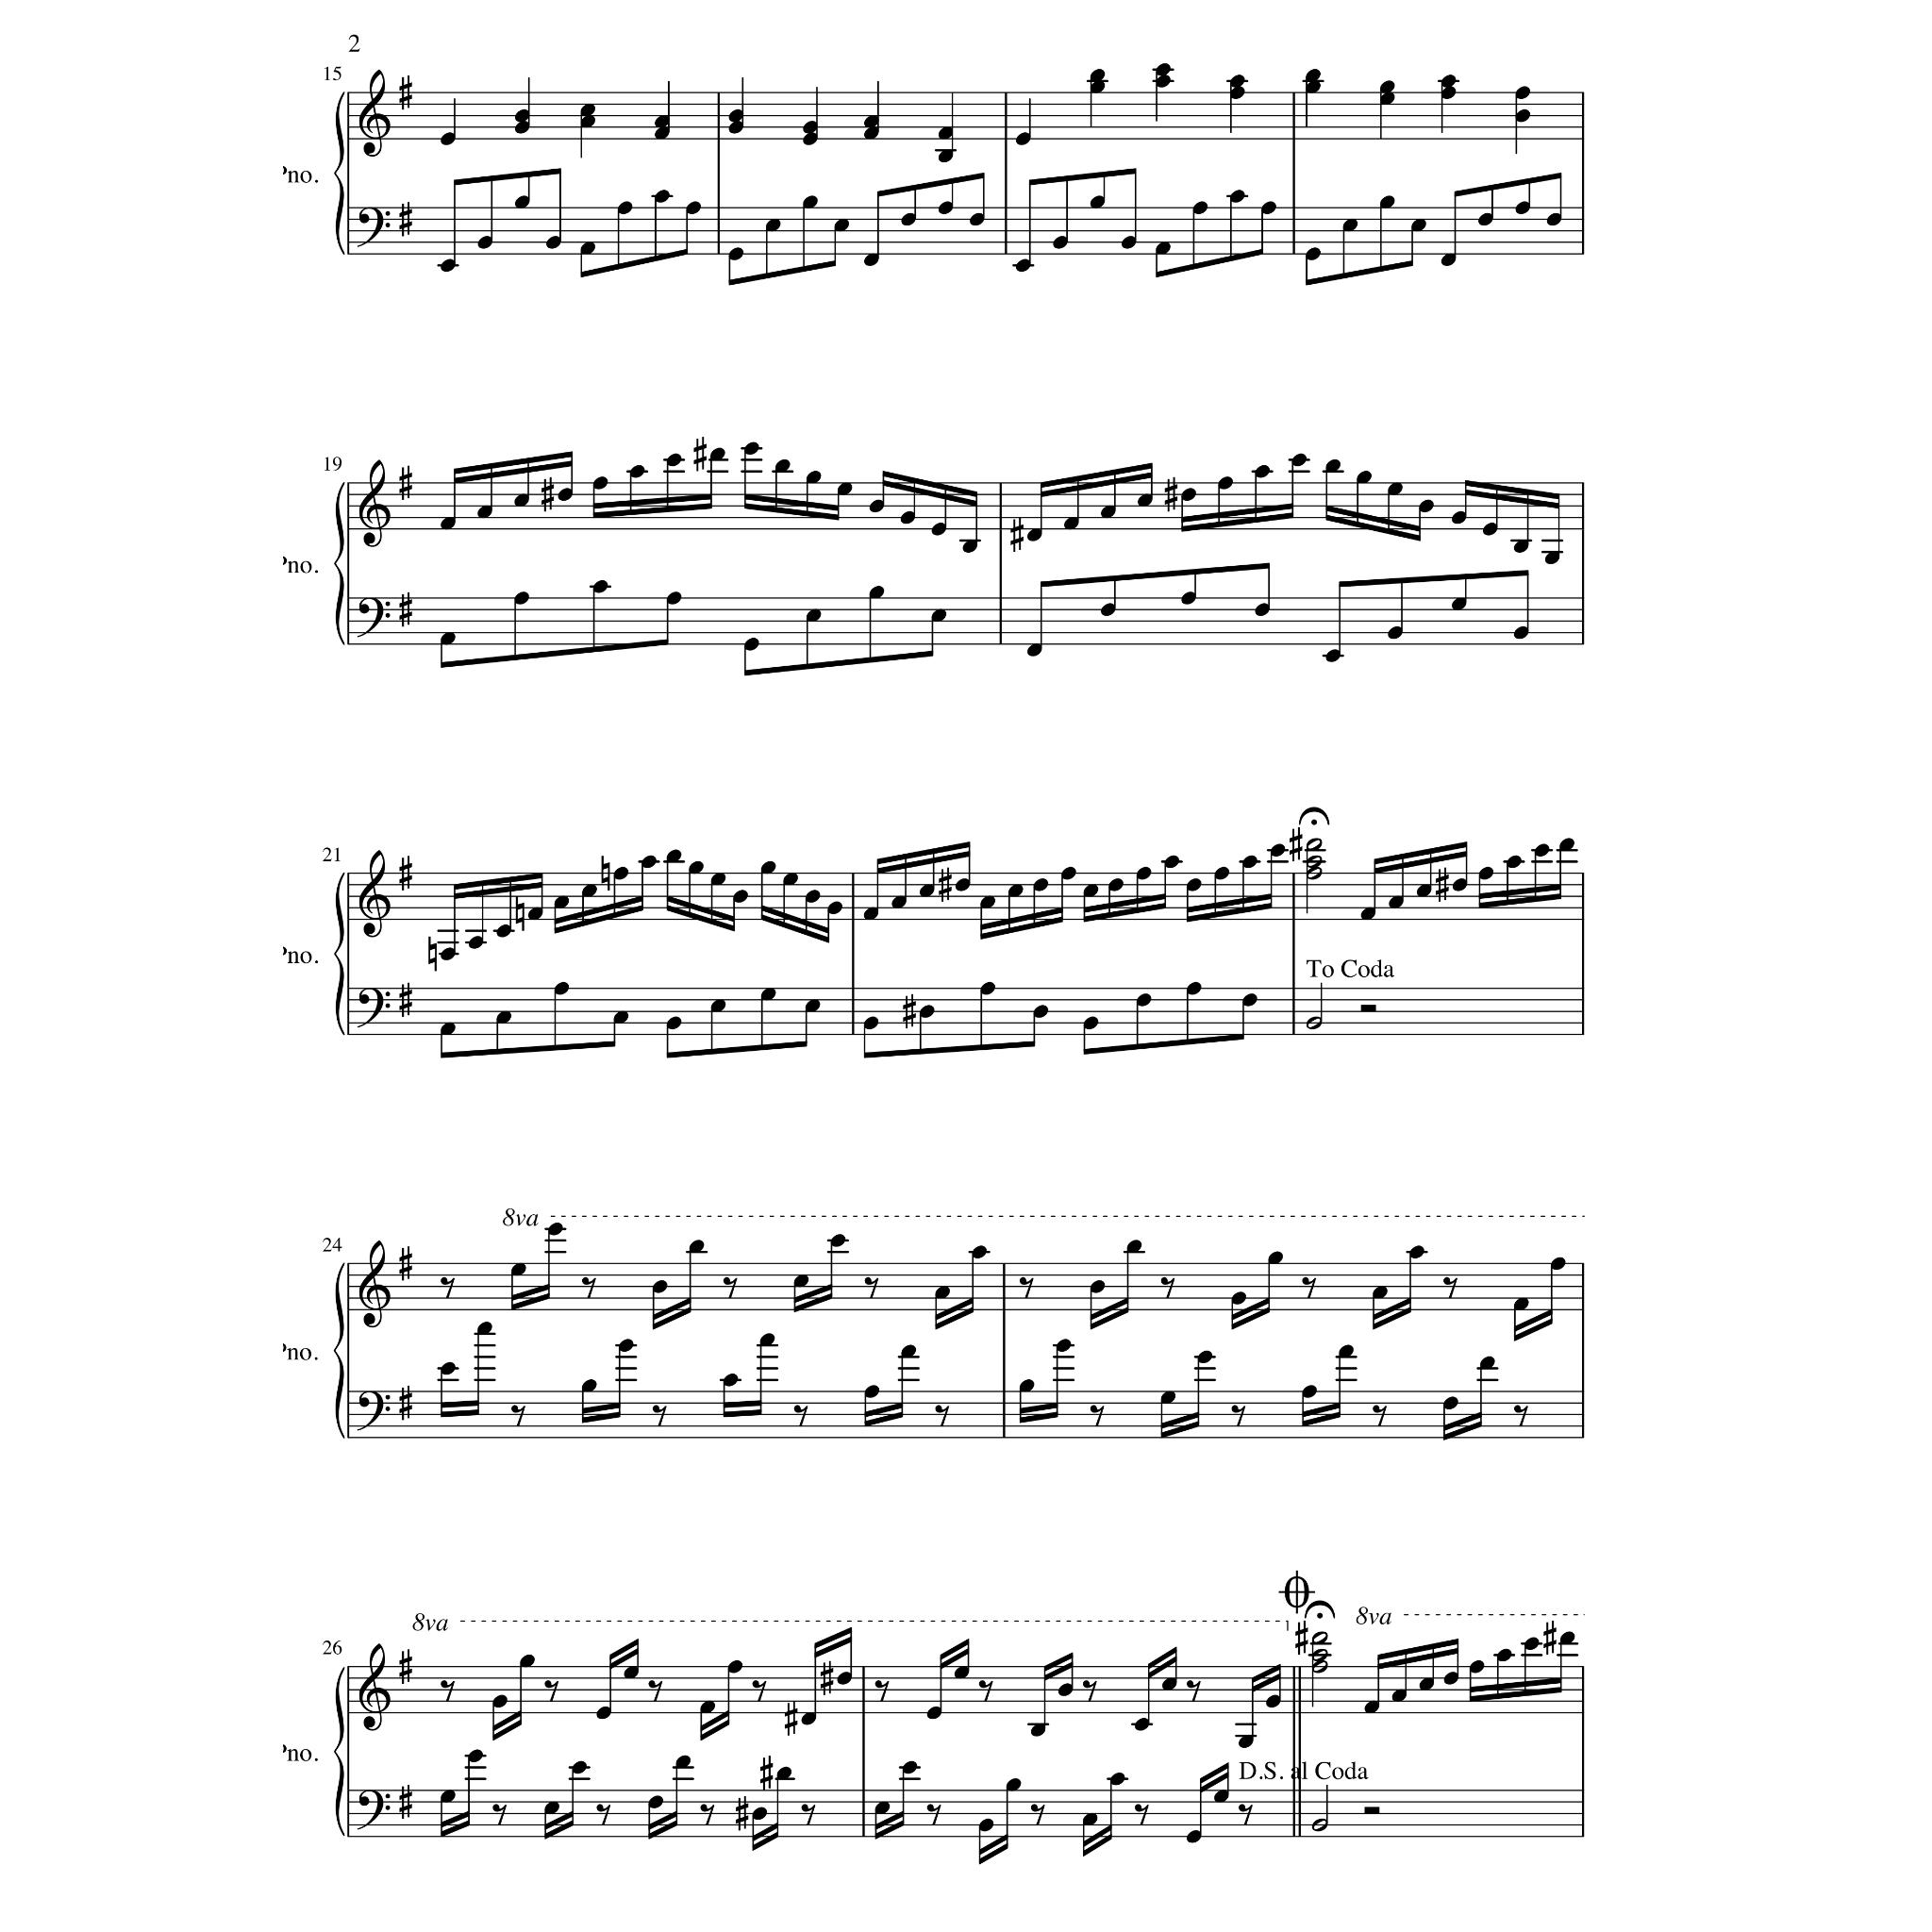brace: (333, 1263, 345, 1438), (333, 1667, 345, 1836), (333, 481, 345, 646), (333, 92, 345, 255), (333, 872, 345, 1035)
fClef: (357, 207, 391, 248), (357, 598, 391, 639), (357, 987, 391, 1028), (357, 1391, 391, 1431), (357, 1790, 391, 1831)
gClef: (359, 849, 391, 939), (359, 69, 391, 157), (359, 460, 391, 548), (359, 1240, 391, 1329), (359, 1644, 391, 1732)
noteheadBlack: (1228, 74, 1246, 88), (1228, 87, 1246, 101), (1014, 133, 1031, 147), (616, 202, 633, 216), (801, 120, 819, 134), (801, 133, 819, 147), (1099, 603, 1116, 617), (759, 987, 777, 1001), (1056, 1683, 1074, 1697), (901, 1760, 918, 1775), (1192, 202, 1208, 216), (1155, 241, 1171, 255), (1306, 248, 1322, 262), (1260, 202, 1276, 216), (1053, 235, 1069, 249), (1120, 235, 1136, 249), (1155, 74, 1171, 88), (1514, 87, 1530, 101), (1514, 202, 1530, 216), (1440, 253, 1456, 267), (1440, 74, 1456, 88), (1440, 87, 1456, 101), (580, 115, 596, 129), (580, 241, 596, 255), (545, 235, 561, 249), (727, 248, 743, 262), (727, 120, 743, 134), (653, 115, 669, 129), (653, 126, 669, 140), (478, 235, 494, 249), (513, 120, 529, 134), (441, 133, 456, 147), (863, 253, 879, 267), (863, 115, 879, 129), (863, 126, 879, 140), (938, 202, 954, 216), (938, 126, 954, 140), (1217, 476, 1233, 490), (1180, 488, 1196, 502), (1325, 649, 1341, 663), (1292, 453, 1307, 467), (1254, 603, 1270, 617), (1136, 494, 1152, 508), (1063, 517, 1079, 531), (1513, 626, 1529, 640), (1387, 626, 1403, 640), (1387, 481, 1403, 495), (1481, 522, 1497, 536), (593, 476, 609, 490), (557, 488, 573, 502), (709, 448, 725, 462), (665, 453, 681, 467), (513, 494, 529, 508), (441, 632, 456, 646), (441, 517, 456, 531), (869, 586, 885, 600), (837, 481, 853, 495), (931, 609, 947, 623), (931, 522, 947, 536), (743, 442, 759, 456), (743, 637, 759, 651), (805, 471, 821, 485), (805, 609, 821, 623), (1185, 878, 1201, 892), (1108, 878, 1123, 892), (1136, 993, 1152, 1007), (1242, 993, 1258, 1007), (1185, 982, 1201, 996), (980, 982, 996, 996), (954, 878, 970, 892), (1083, 1016, 1099, 1030), (1033, 1005, 1049, 1019), (1033, 878, 1049, 892), (1534, 844, 1550, 858), (1451, 878, 1467, 892), (1269, 844, 1284, 858), (554, 982, 570, 996), (665, 1016, 681, 1030), (665, 849, 681, 863), (441, 947, 456, 961), (863, 1016, 879, 1030), (918, 1005, 934, 1019), (709, 872, 725, 886), (782, 872, 798, 886), (1267, 1251, 1283, 1265), (1090, 1279, 1106, 1293), (1338, 1345, 1353, 1359), (1513, 1297, 1529, 1311), (1444, 1396, 1460, 1410), (547, 1223, 563, 1237), (651, 1279, 667, 1293), (901, 1345, 916, 1359), (830, 1233, 846, 1247), (793, 1274, 809, 1288), (759, 1332, 775, 1346), (722, 1373, 738, 1387), (1185, 1829, 1201, 1844), (1134, 1718, 1150, 1732), (1162, 1677, 1178, 1691), (1214, 1789, 1230, 1803), (1030, 1723, 1046, 1737), (1005, 1778, 1021, 1792), (1495, 1649, 1511, 1663), (1468, 1660, 1484, 1674), (1419, 1677, 1435, 1691), (1391, 1688, 1407, 1702), (571, 1760, 587, 1775), (676, 1753, 692, 1767), (648, 1794, 663, 1808), (441, 1789, 456, 1803), (520, 1654, 536, 1668), (492, 1695, 508, 1709), (727, 1660, 743, 1674), (752, 1806, 768, 1821), (1014, 260, 1031, 272), (1228, 191, 1246, 203), (1341, 219, 1359, 232), (801, 196, 819, 209), (1099, 506, 1116, 518), (773, 460, 791, 472), (759, 862, 777, 874), (1380, 92, 1394, 106), (686, 202, 701, 216), (1357, 471, 1371, 485), (1267, 1695, 1281, 1709), (1306, 69, 1322, 81), (1306, 81, 1322, 94), (1155, 64, 1171, 76), (1090, 196, 1106, 209), (1090, 69, 1106, 81), (1090, 81, 1106, 94), (1546, 214, 1562, 226), (1514, 110, 1530, 122), (1477, 214, 1493, 226), (1410, 219, 1426, 232), (580, 104, 596, 117), (727, 110, 743, 122), (653, 191, 669, 203), (513, 196, 529, 209), (513, 110, 529, 122), (441, 260, 456, 272), (833, 219, 849, 232), (968, 214, 984, 226), (938, 150, 954, 163), (901, 214, 916, 226), (764, 219, 780, 232), (1180, 593, 1196, 605), (1026, 529, 1042, 541), (1325, 460, 1341, 472), (1254, 465, 1270, 478), (1026, 644, 1042, 656), (1545, 552, 1560, 564), (1513, 540, 1529, 552), (1451, 598, 1467, 610), (1451, 511, 1467, 524), (1419, 501, 1435, 513), (593, 580, 609, 593), (665, 593, 681, 605), (628, 465, 644, 478), (513, 593, 529, 605), (478, 506, 494, 518), (869, 501, 885, 513), (899, 511, 915, 524), (962, 540, 978, 552), (1164, 856, 1180, 869), (1136, 867, 1152, 879), (1242, 856, 1258, 869), (1214, 867, 1230, 879), (1007, 885, 1023, 897), (980, 897, 996, 909), (1083, 885, 1099, 897), (1062, 867, 1077, 879), (1506, 856, 1522, 869), (1559, 839, 1575, 851), (1477, 867, 1493, 879), (1415, 885, 1431, 897), (1389, 897, 1405, 909), (612, 1012, 628, 1024), (612, 867, 628, 879), (582, 885, 598, 897), (554, 897, 570, 909), (688, 862, 704, 874), (640, 856, 656, 869), (441, 1023, 456, 1035), (527, 908, 543, 920), (495, 1012, 511, 1024), (495, 925, 511, 938), (467, 936, 483, 948), (863, 908, 879, 920), (826, 902, 842, 915), (918, 885, 934, 897), (892, 897, 908, 909), (732, 890, 748, 902), (805, 890, 821, 902), (709, 1000, 725, 1012), (805, 1000, 821, 1012), (1231, 1292, 1247, 1304), (1196, 1352, 1212, 1364), (1161, 1391, 1177, 1403), (1302, 1385, 1318, 1398), (1125, 1240, 1141, 1253), (1054, 1339, 1070, 1352), (1550, 1258, 1566, 1270), (1408, 1246, 1424, 1258), (1373, 1286, 1389, 1299), (1479, 1357, 1495, 1369), (580, 1380, 596, 1392), (617, 1339, 633, 1352), (688, 1240, 704, 1253), (478, 1322, 494, 1334), (510, 1263, 525, 1276), (441, 1362, 456, 1375), (863, 1385, 879, 1398), (1019, 1380, 1035, 1392), (971, 1246, 987, 1258), (934, 1286, 950, 1299), (1237, 1736, 1253, 1748), (978, 1819, 994, 1831), (954, 1667, 970, 1679), (1081, 1813, 1097, 1826), (1109, 1773, 1125, 1785), (1559, 1631, 1575, 1644), (1523, 1638, 1539, 1651), (1364, 1700, 1380, 1713), (1444, 1672, 1460, 1684), (596, 1707, 612, 1720), (543, 1801, 559, 1813), (699, 1700, 715, 1713), (623, 1667, 639, 1679), (467, 1750, 483, 1762), (874, 1801, 890, 1813), (837, 1672, 853, 1684), (925, 1707, 941, 1720), (777, 1767, 793, 1780), (800, 1713, 816, 1725), (1380, 81, 1394, 94), (1380, 196, 1394, 209), (1361, 908, 1375, 920)
noteheadHalf: (1306, 1016, 1323, 1030), (1311, 1660, 1329, 1674), (1311, 1649, 1329, 1663), (1306, 839, 1323, 851), (1306, 856, 1323, 869), (1306, 867, 1323, 879), (1311, 1819, 1329, 1831), (1311, 1631, 1329, 1644)
rest8th: (1371, 1405, 1387, 1428), (1513, 1405, 1529, 1428), (1442, 1276, 1458, 1299), (580, 1276, 596, 1299), (651, 1405, 667, 1428), (439, 1276, 455, 1299), (510, 1405, 525, 1428), (863, 1276, 879, 1299), (934, 1405, 950, 1428), (793, 1405, 809, 1428), (722, 1276, 738, 1299), (1030, 1803, 1046, 1826), (596, 1803, 612, 1826), (1185, 1681, 1201, 1702), (543, 1681, 559, 1702), (439, 1681, 455, 1702), (874, 1681, 890, 1702), (1231, 1405, 1246, 1428), (1161, 1276, 1175, 1299), (1302, 1276, 1316, 1299), (1090, 1405, 1104, 1428), (1019, 1276, 1033, 1299), (1134, 1803, 1148, 1826), (1238, 1803, 1253, 1826), (701, 1803, 715, 1826), (492, 1803, 506, 1826), (927, 1803, 941, 1826), (801, 1803, 816, 1826), (978, 1681, 993, 1702), (1083, 1681, 1097, 1702), (648, 1681, 662, 1702), (752, 1681, 766, 1702)
restHalf: (1361, 1005, 1376, 1012), (1364, 1806, 1380, 1813)
